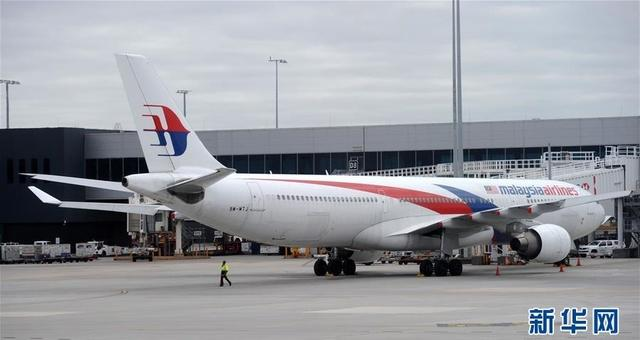airplane: (18, 54, 629, 276)
